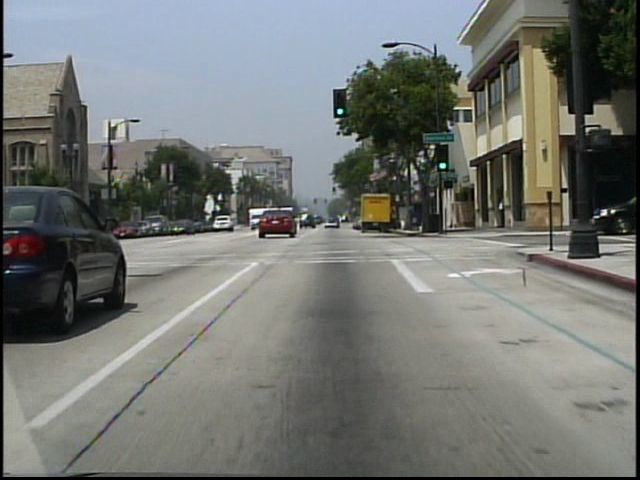person: (495, 195, 506, 229)
